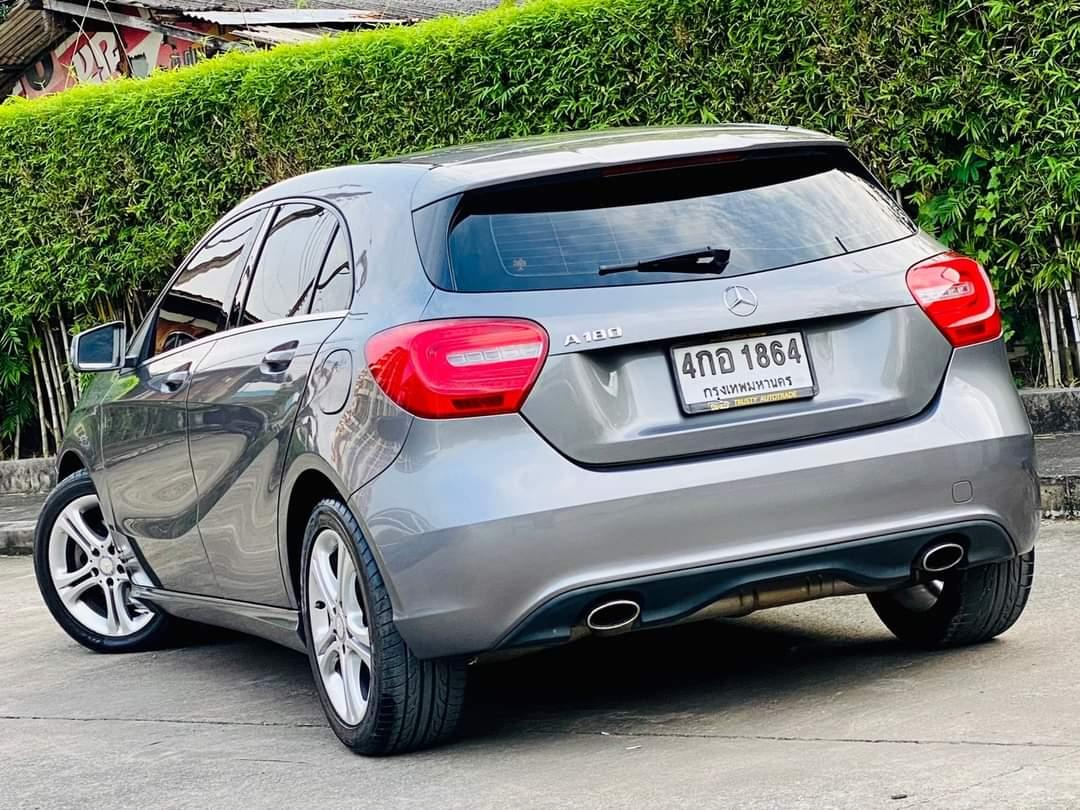license-plate: (662, 321, 828, 420)
